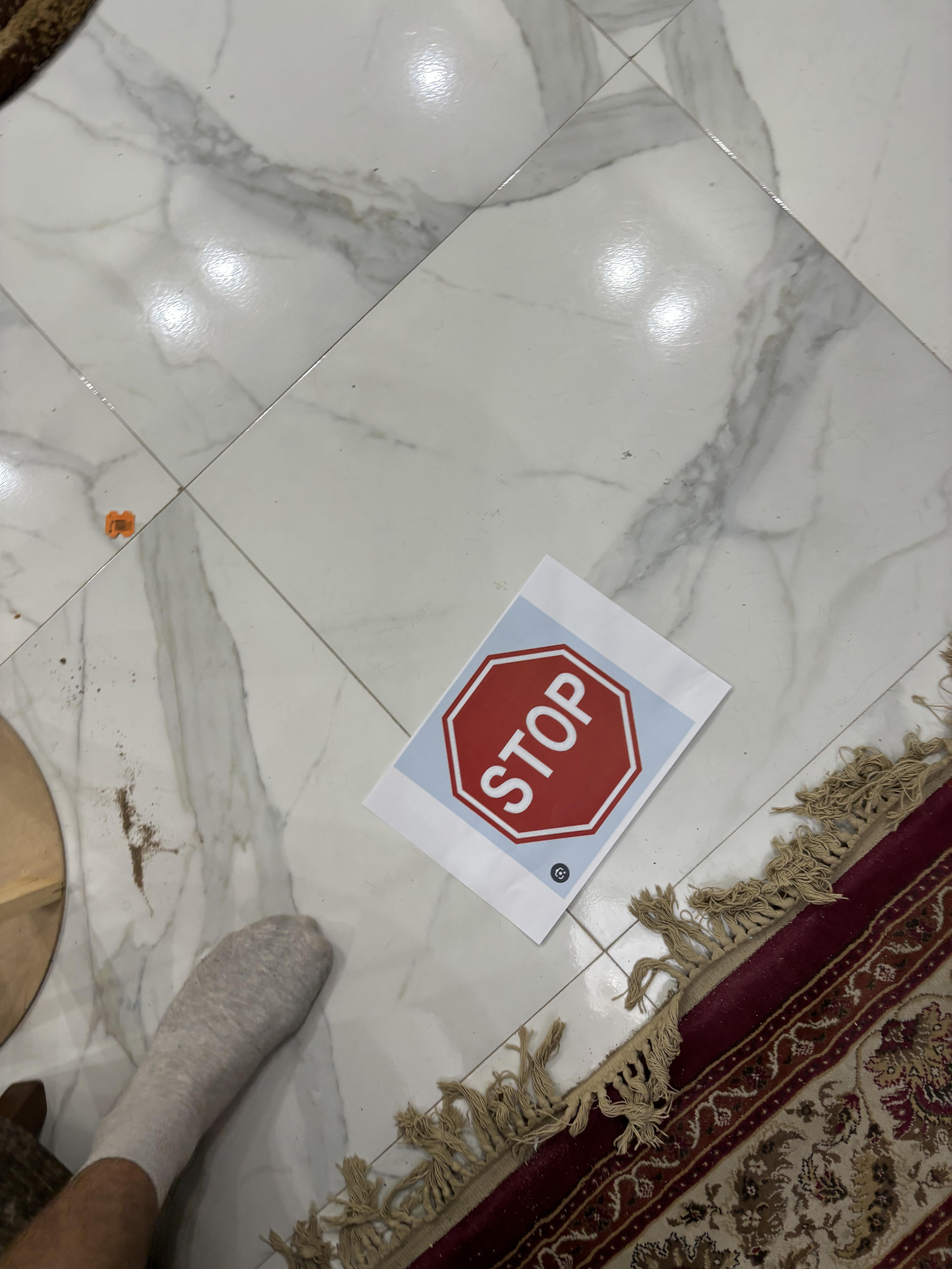Stop: (440, 640, 646, 852)
